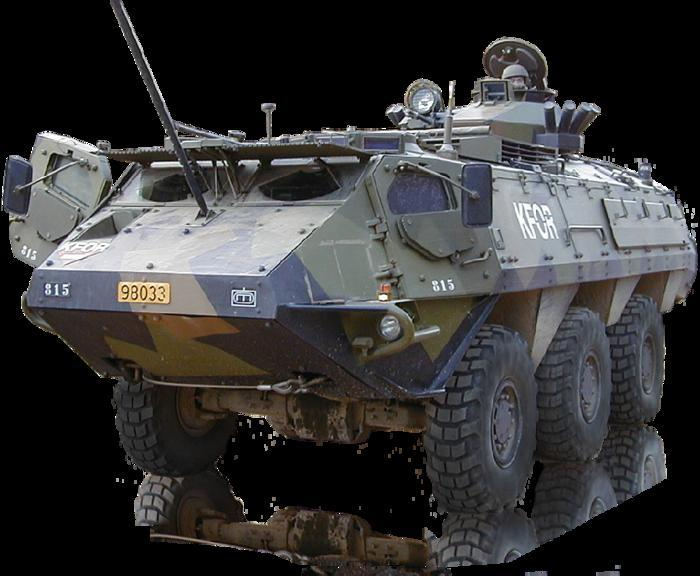MIL_IFV: (5, 38, 699, 519)
